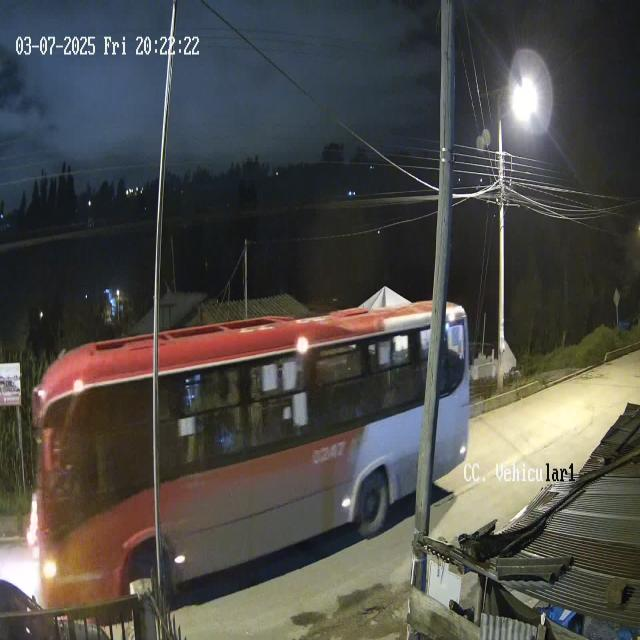BUS: (36, 302, 470, 622)
